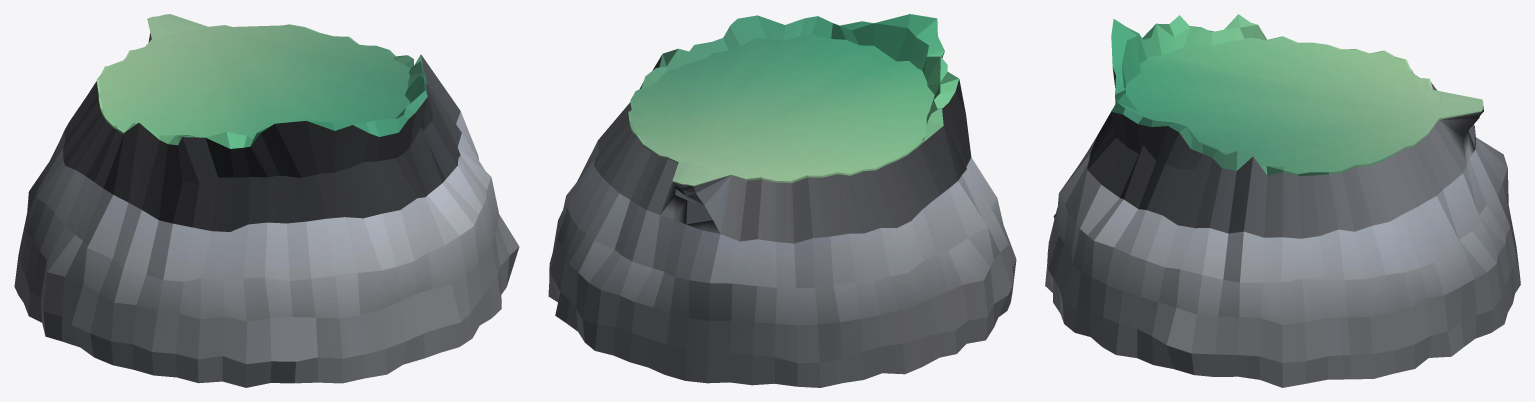
Rendered from island solidified.fbx.
The picture shows the model from 3 angles, left to right: view 1: azimuth 30°, elevation 25°; view 2: azimuth 150°, elevation 25°; view 3: azimuth 270°, elevation 25°; orthographic projection. The views are drawn at different scales.
Parts seen in each view (by area): view 1: Cylinder; view 2: Cylinder; view 3: Cylinder.
Part boxes in pixels (left/top/right/bottom): Cylinder: left=14, top=14, right=519, bottom=387; Cylinder: left=548, top=14, right=1016, bottom=387; Cylinder: left=1045, top=14, right=1520, bottom=387.
Bounding box in the file's own units: 2963 × 1578 × 2927.
